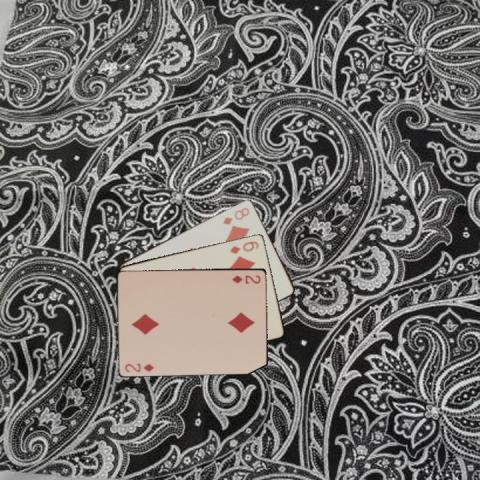2d: (229, 272, 262, 285), (122, 360, 155, 373)
6d: (227, 238, 260, 255)
8d: (220, 204, 251, 226)
